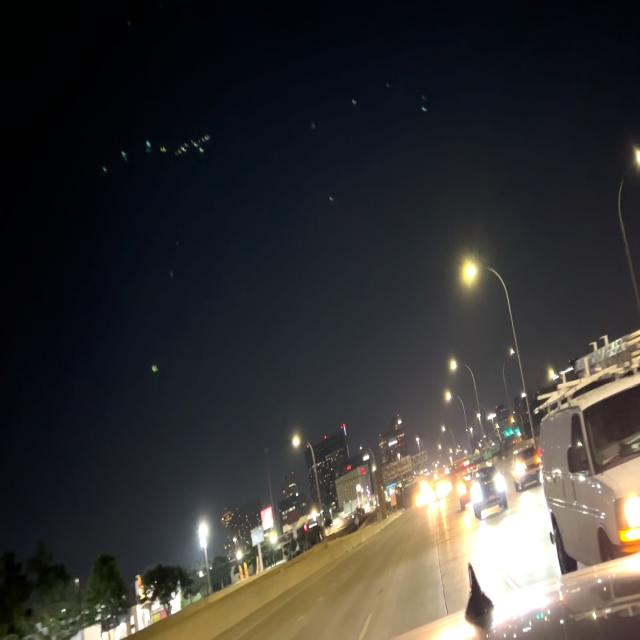back-of-sign: (382, 453, 415, 484)
